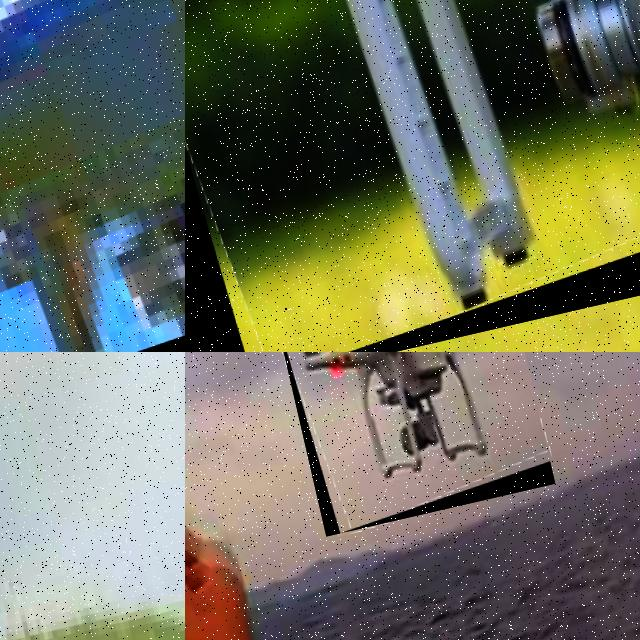0: (185, 0, 640, 352), (272, 352, 555, 536)
drone: (0, 0, 185, 352)
